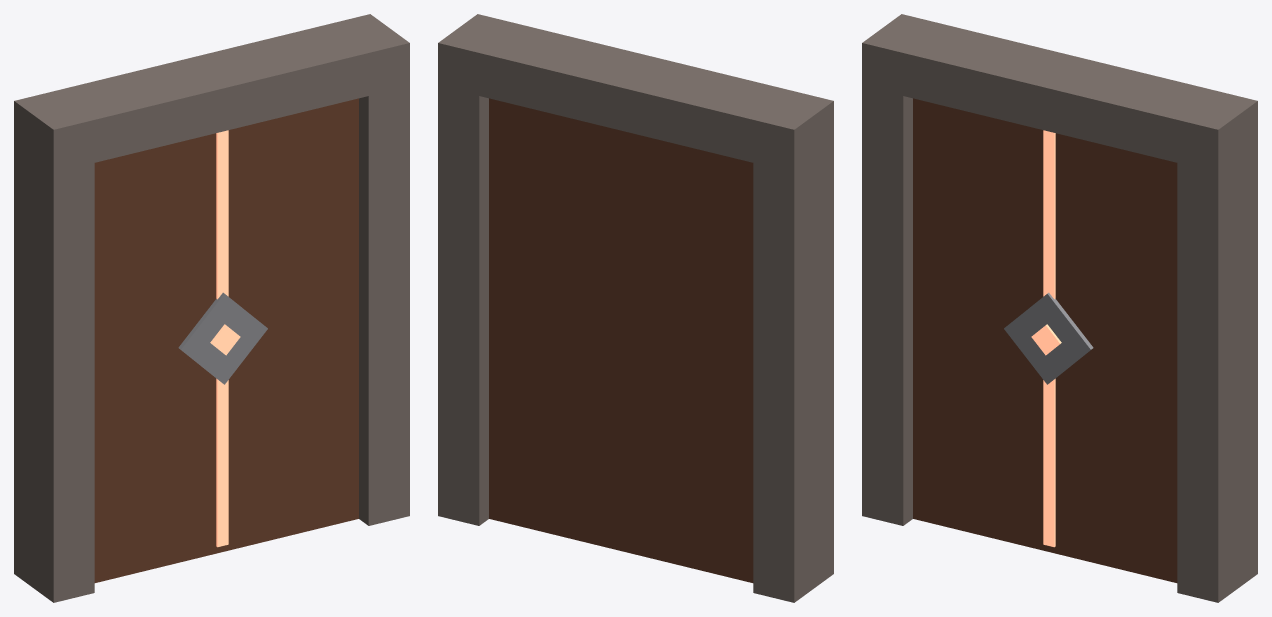
Rendered from door_sealed.fbx.
3 views of the same model, side by side, from view 1: azimuth 30°, elevation 25°; view 2: azimuth 150°, elevation 25°; view 3: azimuth 330°, elevation 25° (orthographic).
Parts seen in each view (by area): view 1: door_sealed; view 2: door_sealed; view 3: door_sealed.
Boxes of the visible parts, box(x1,y1,x2,y2) form: door_sealed: box(14, 14, 409, 602); door_sealed: box(438, 14, 833, 602); door_sealed: box(862, 14, 1257, 602).
Bounding box in the file's own units: 2.6 × 3.3 × 0.5.
